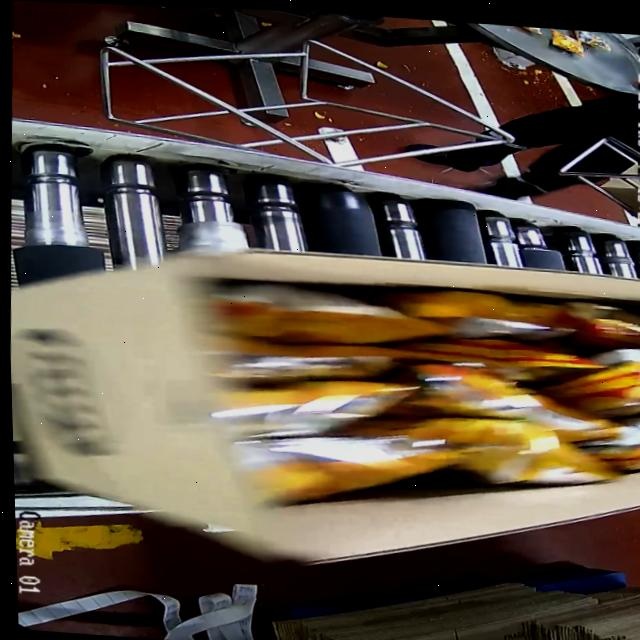FRENCH_CHEESE: (200, 275, 640, 494)
